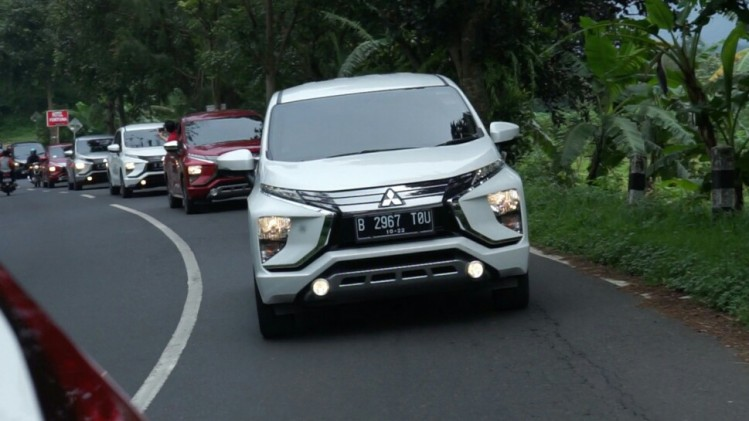plate: (356, 205, 433, 239)
